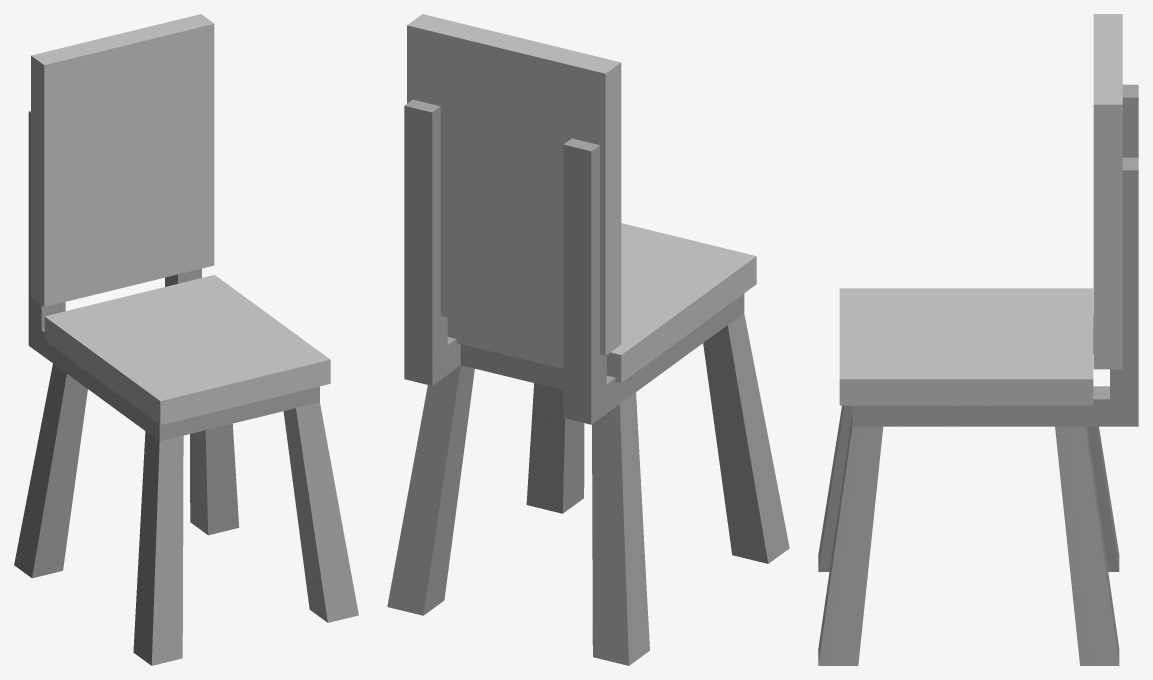
Rendered from BasicChairOrange.fbx.
3 renders of one model, left to right at view 1: azimuth 30°, elevation 25°; view 2: azimuth 150°, elevation 25°; view 3: azimuth 270°, elevation 25°, orthographic. The views are drawn at different scales.
Parts seen in each view (by area): view 1: Cube.002, Cube.001; view 2: Cube.001, Cube.002; view 3: Cube.002, Cube.001.
Boxes of the visible parts, bbox=[...] form: Cube.002: bbox=[31, 14, 330, 425]; Cube.001: bbox=[14, 111, 358, 665]; Cube.001: bbox=[387, 99, 789, 665]; Cube.002: bbox=[407, 14, 756, 383]; Cube.002: bbox=[839, 14, 1122, 405]; Cube.001: bbox=[818, 84, 1138, 665].
Bounding box in the file's own units: 345 × 803 × 423.
